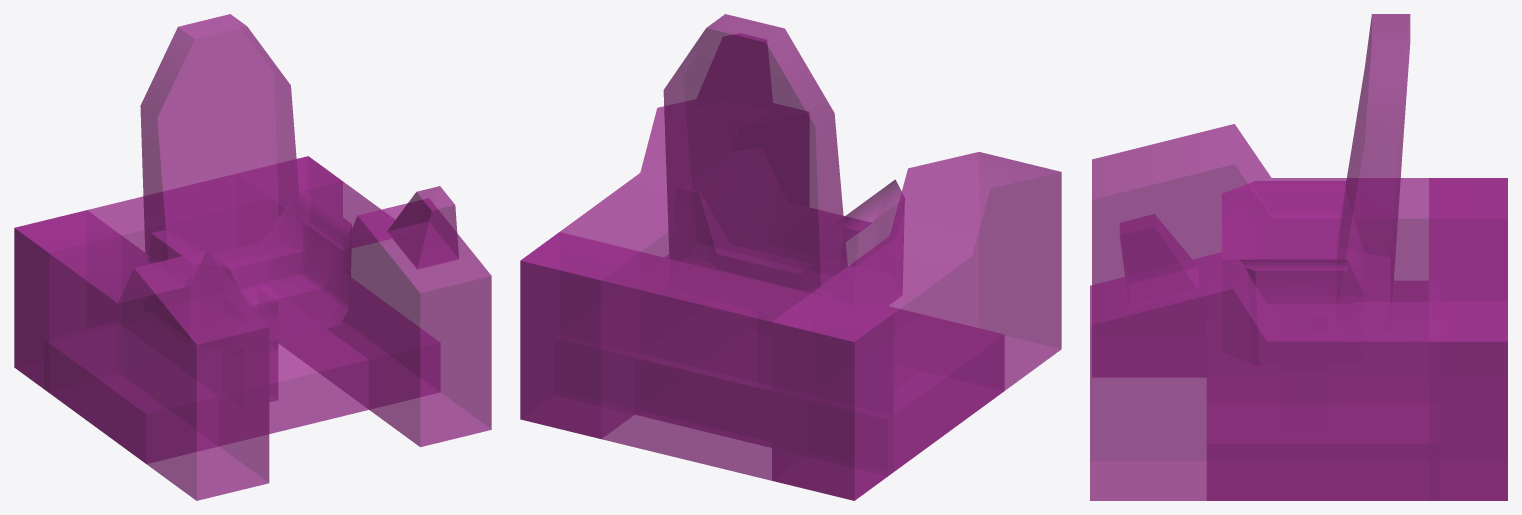
Rendered from SM_Prop_Crane_Seat_01_Collision.fbx.
The picture shows the model from 3 angles, left to right: view 1: azimuth 30°, elevation 25°; view 2: azimuth 150°, elevation 25°; view 3: azimuth 270°, elevation 25°; orthographic projection. The views are drawn at different scales.
Visible parts, largest first — view 1: SM_Prop_Crane_Seat_01_Collision; view 2: SM_Prop_Crane_Seat_01_Collision; view 3: SM_Prop_Crane_Seat_01_Collision.
Boxes of the visible parts, box(x1,y1,x2,y2) form: SM_Prop_Crane_Seat_01_Collision: box(14, 14, 491, 500); SM_Prop_Crane_Seat_01_Collision: box(520, 14, 1061, 500); SM_Prop_Crane_Seat_01_Collision: box(1090, 14, 1507, 500).
Size of the model in its own units: 114 by 127 by 124.
